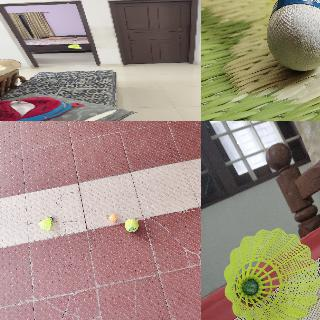shuttlecock: (223, 228, 319, 319), (260, 0, 319, 71), (38, 216, 54, 230), (68, 44, 82, 48)
